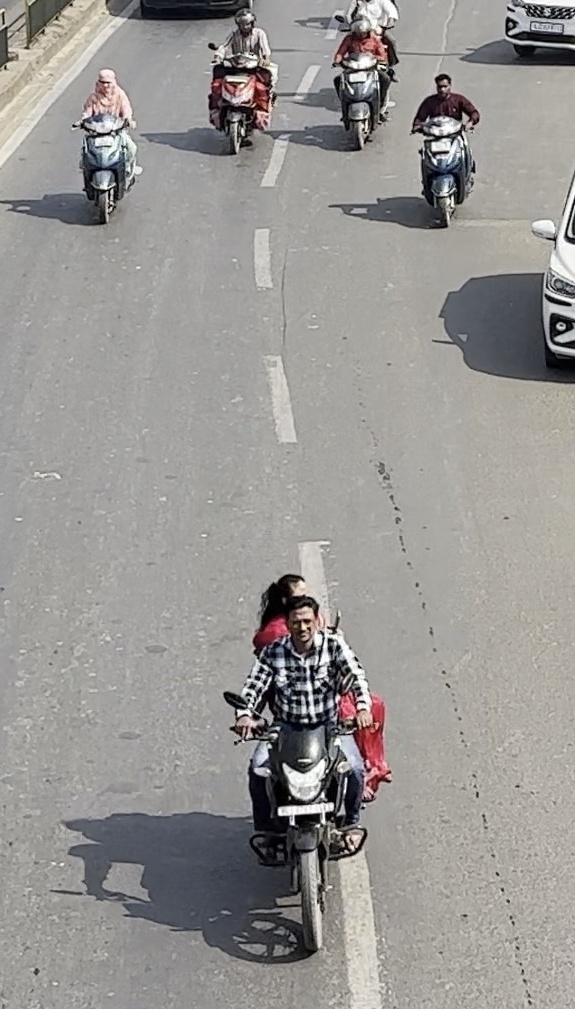BikeWithRider: (220, 565, 392, 953), (201, 8, 283, 163), (70, 62, 146, 228), (411, 71, 481, 231), (330, 11, 395, 153)
Helmet: (232, 8, 262, 38), (346, 14, 375, 45)
NoHelmet: (259, 571, 312, 624), (281, 597, 324, 645), (90, 65, 121, 97), (431, 73, 458, 101)
